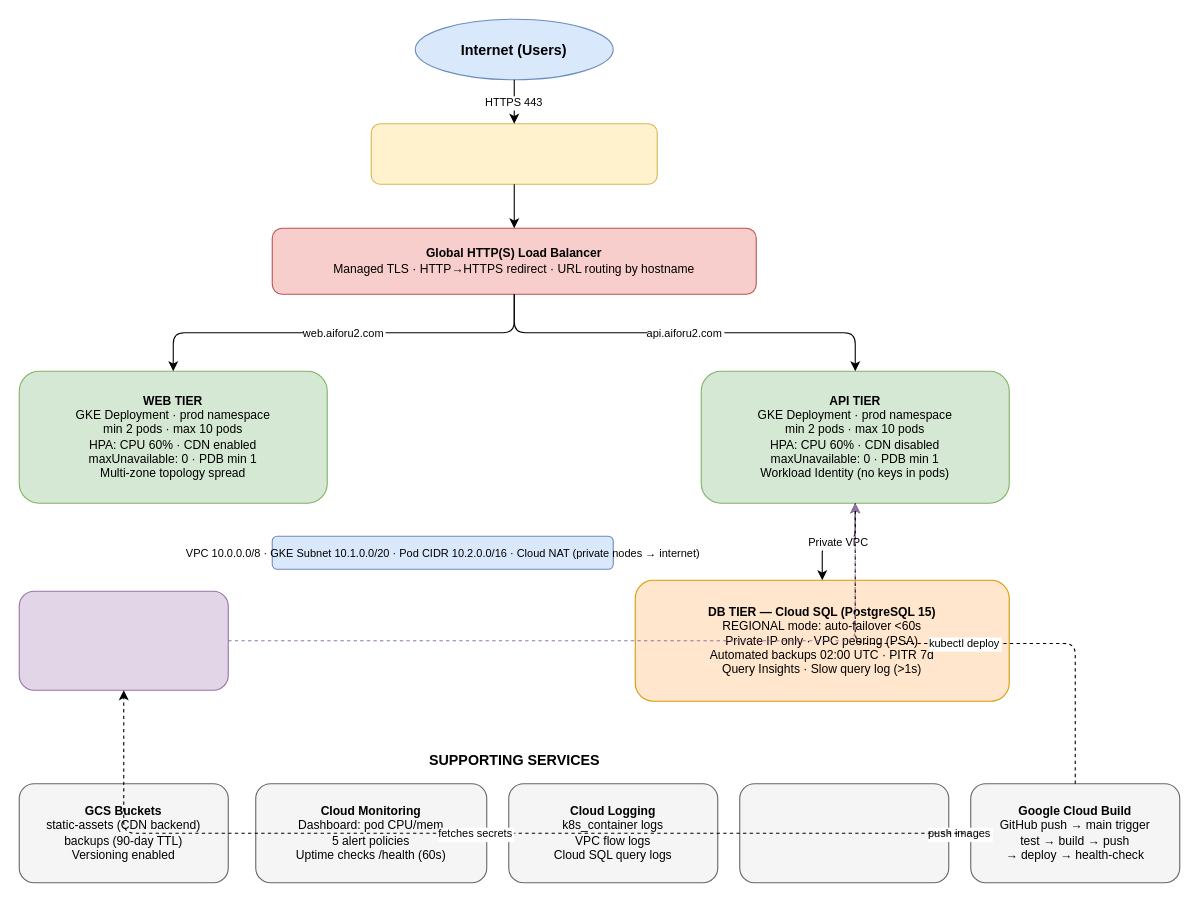
Some shapes in this 1199 by 902 pixel diagram are drawn without their labels. Each missing label, with the centre of its shape:
Artifact Registry web:COMMIT_SHA api:COMMIT_SHA web:latest · api:latest: the point at 844,833
Google Cloud CDN caches static assets globally: the point at 513,153
Secret Manager db-password db-host db-connection-string: the point at 123,640
